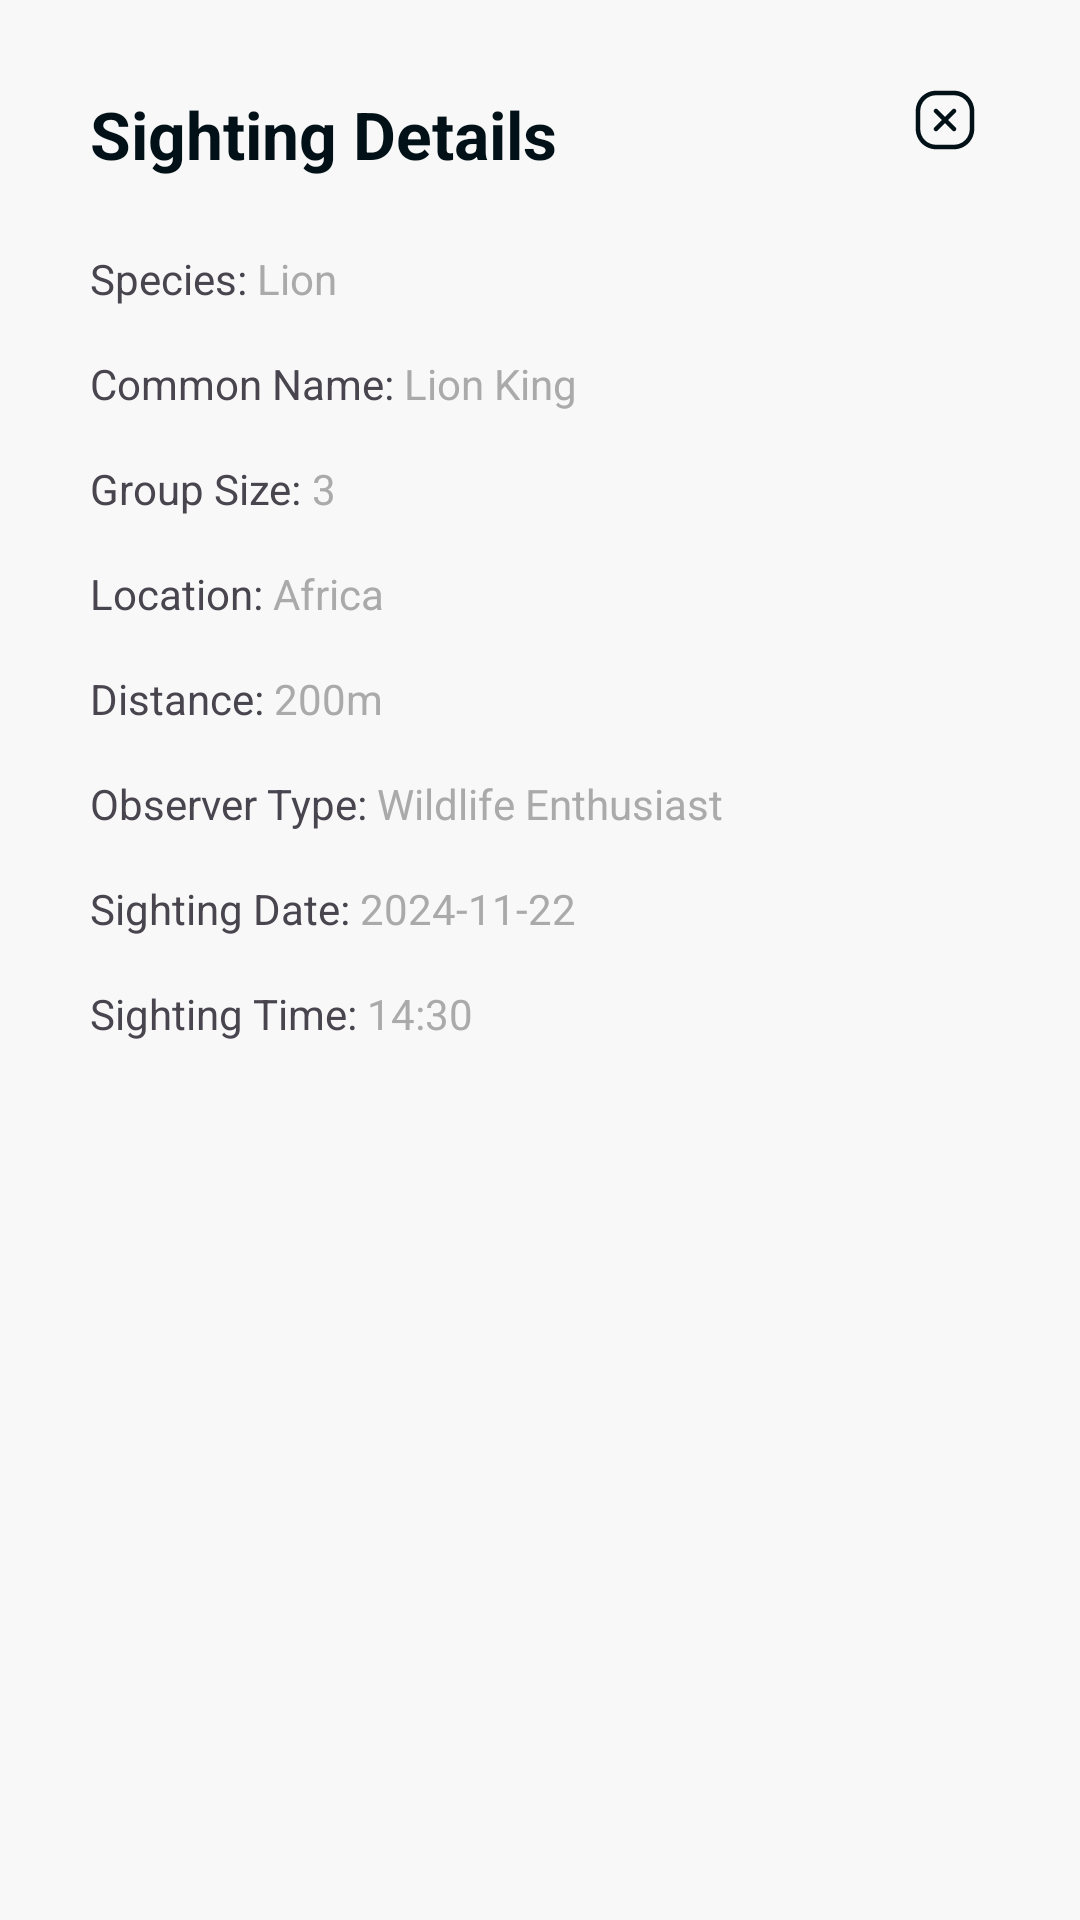

Named icons in this screenshot (1080 x 1920) and their bounding boxes, (left=x1, top=y1, right=x2, bottom=y2):
times square: (left=915, top=90, right=975, bottom=150)
